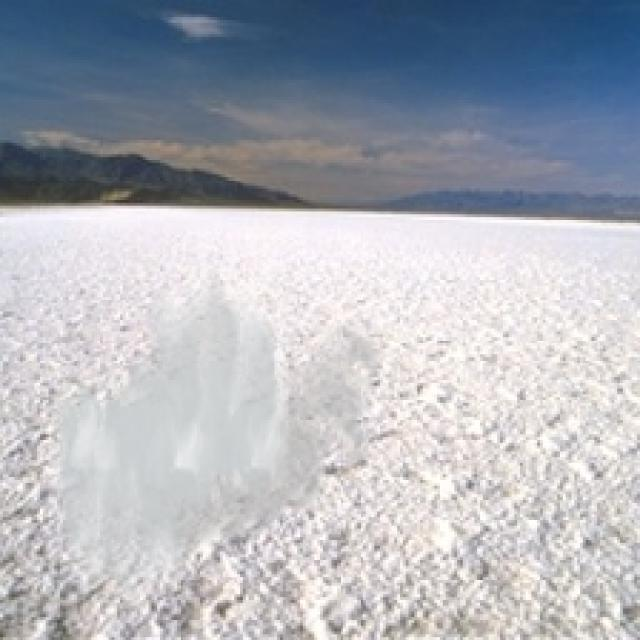smoke: (49, 251, 392, 623)
